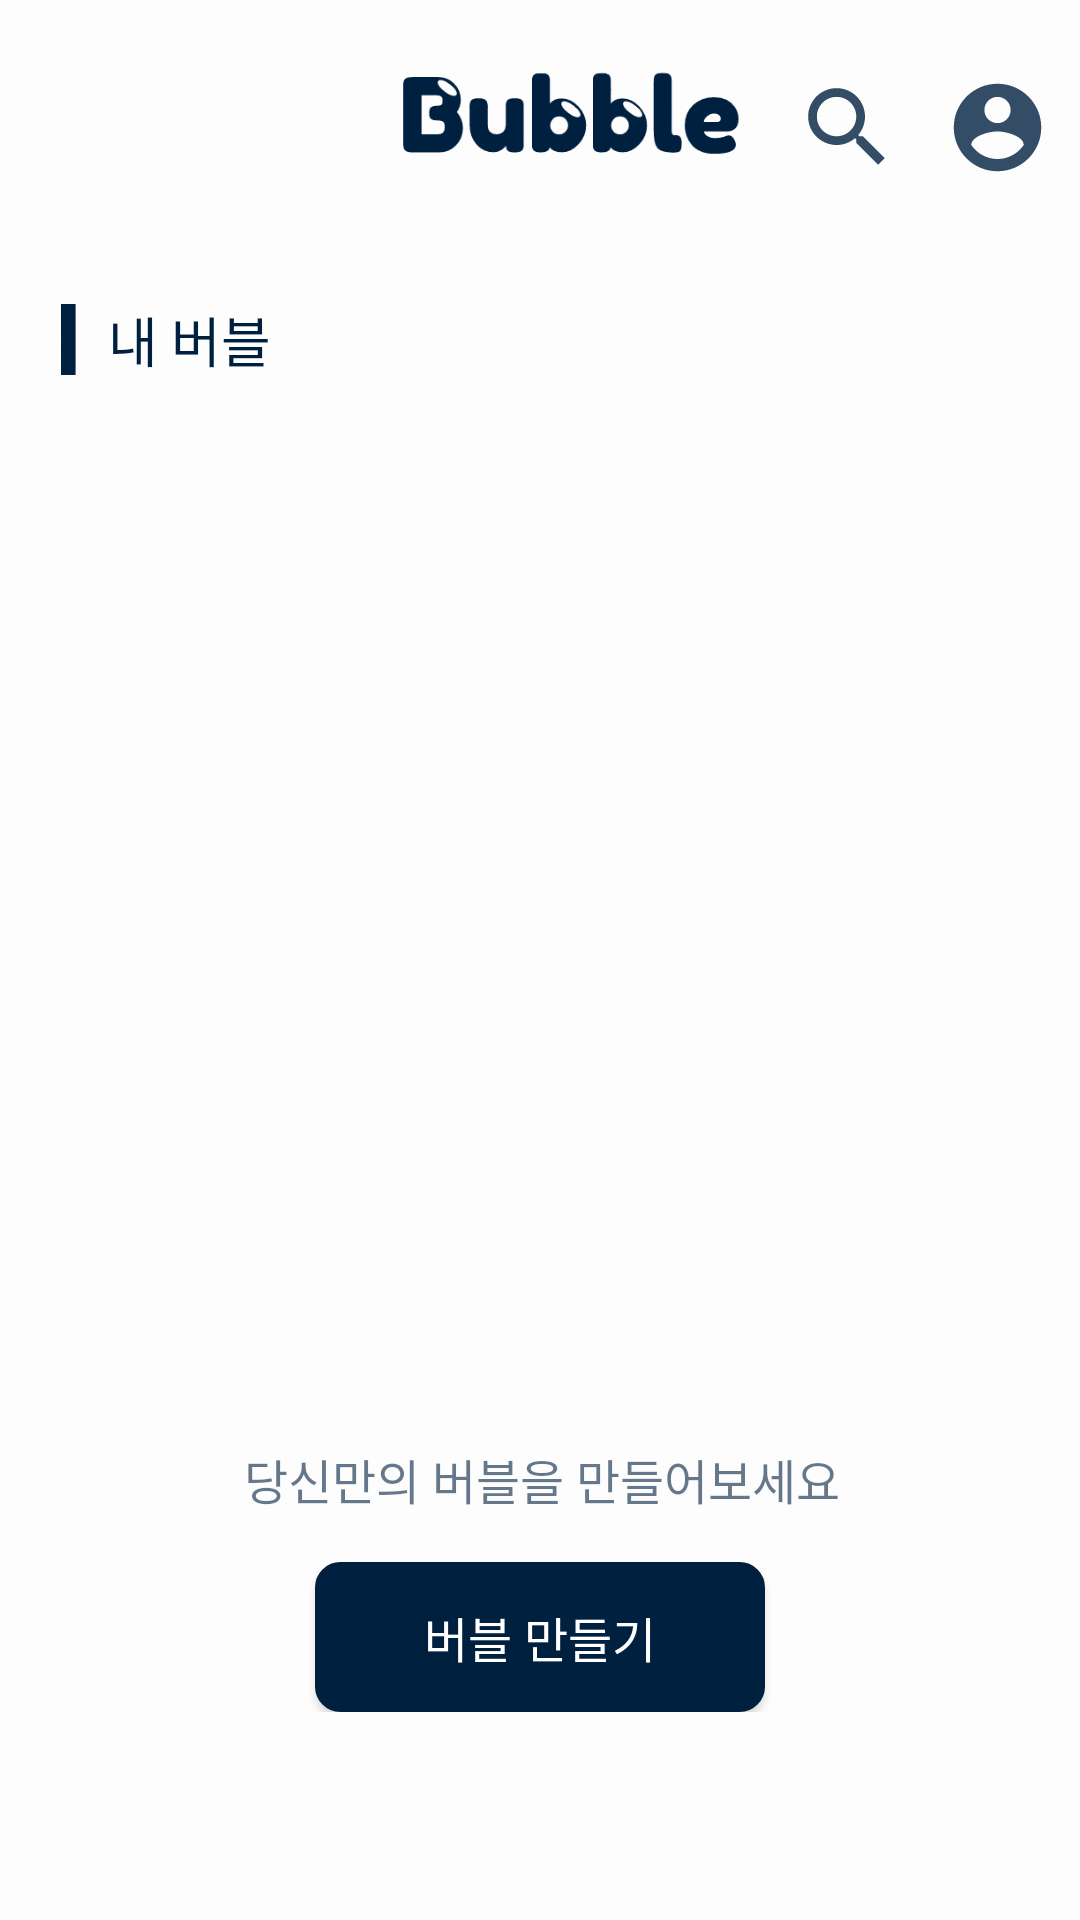

Point at icon controls on the screen. Image size 1080 x 1920, points as (x=x, y=y).
search: (x=846, y=126)
user: (x=997, y=127)
